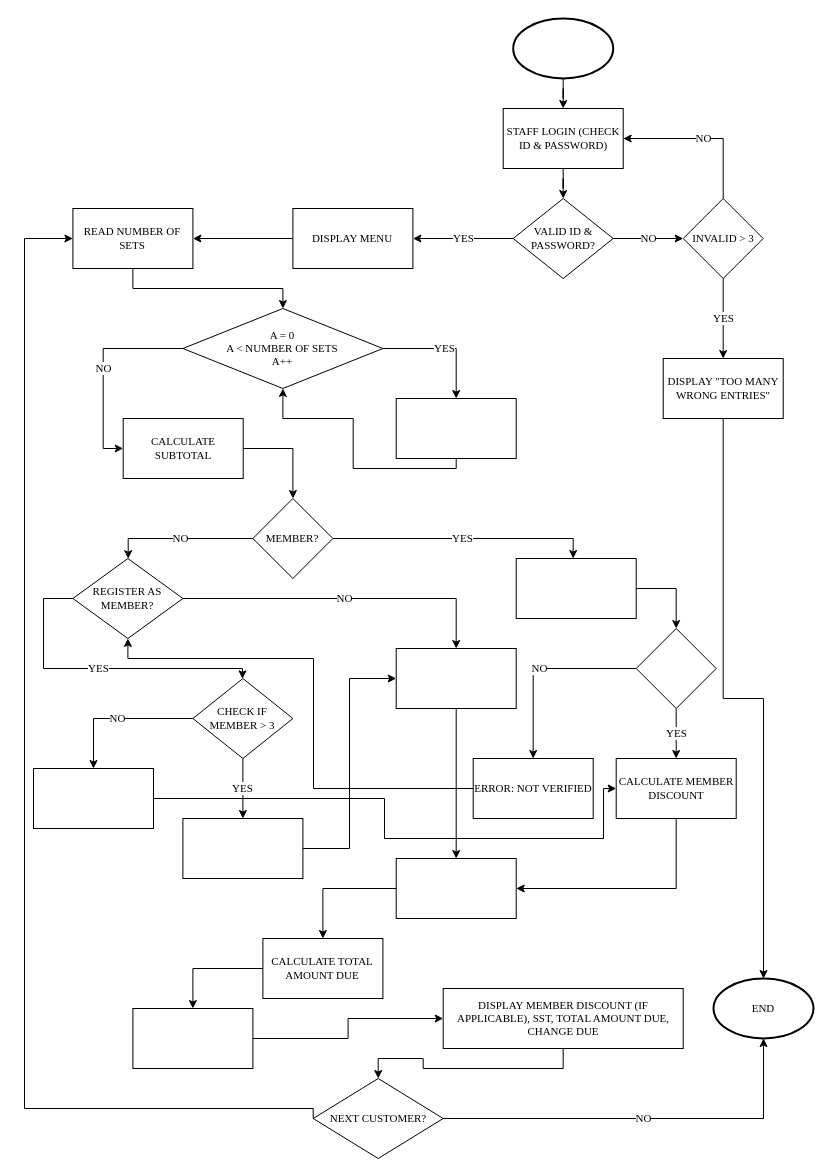
Image size: 832x1176. Some labels were removed from this diagram. The shapes that lost their labels are listed below. From the top down, each one's centre as x and y in pixels, then its label:
At pixel 563 48: "START".
At pixel 455 428: "READ FLAVOUR 1 & FLAVOUR 2".
At pixel 575 588: "VERIFY IF MEMBER BY READING MEMBER ID".
At pixel 455 678: "NO MEMBER DISCOUNT".
At pixel 675 668: "VERIFY AS MEMBER?".
At pixel 93 798: "REGISTERED AS MEMBER, ASSIGN MEMBER ID".
At pixel 242 848: "FAIL TO REGISTER AS MEMBER".
At pixel 455 888: "CALCULATE SST".
At pixel 192 1038: "CALCULATE CHANGE DUE".
